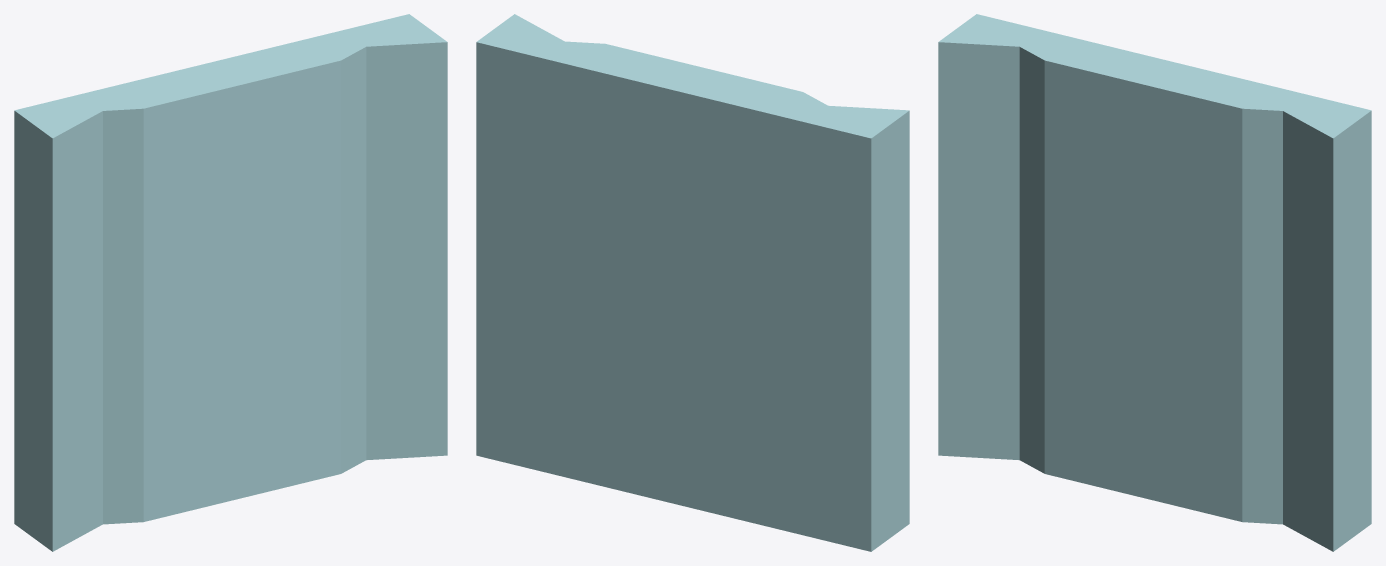
Rendered from cliff_waterfall_stone.fbx.
The picture shows the model from 3 angles, left to right: view 1: azimuth 30°, elevation 25°; view 2: azimuth 150°, elevation 25°; view 3: azimuth 330°, elevation 25°; orthographic projection.
Parts seen in each view (by area): view 1: cliff_waterfall_stone; view 2: cliff_waterfall_stone; view 3: cliff_waterfall_stone.
Part boxes in pixels (bbox=[...]): cliff_waterfall_stone: bbox=[14, 14, 447, 551]; cliff_waterfall_stone: bbox=[476, 14, 909, 551]; cliff_waterfall_stone: bbox=[938, 14, 1371, 551].
Bounding box in the file's own units: 10 × 10 × 1.68.
